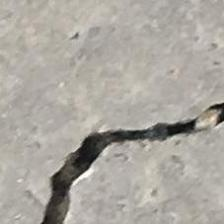Crack: (11, 99, 224, 223)
